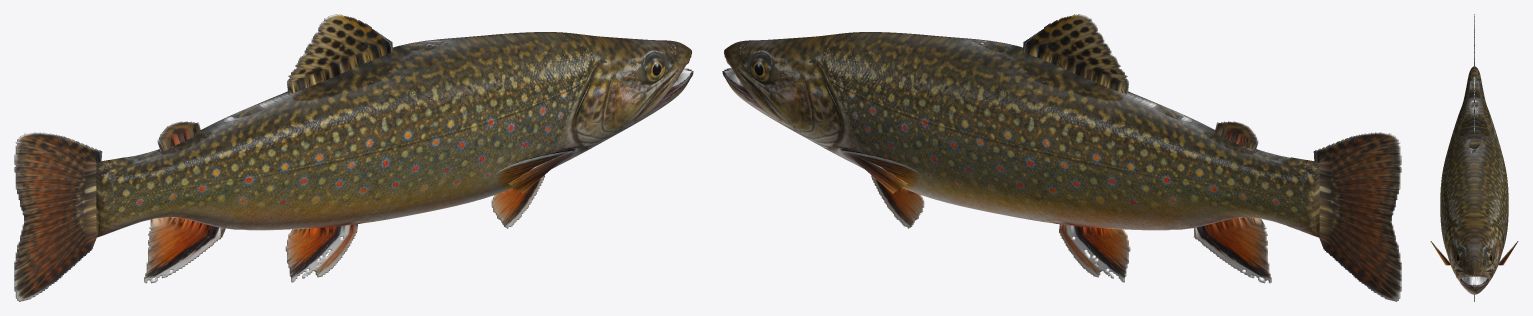
Rendered from brook_trout.glb.
The picture shows the model from 3 angles, left to right: view 1: azimuth 30°, elevation 25°; view 2: azimuth 150°, elevation 25°; view 3: azimuth 270°, elevation 25°; orthographic projection. The views are drawn at different scales.
Visible parts, largest first — view 1: brook_trout_realistic.003; view 2: brook_trout_realistic.003; view 3: brook_trout_realistic.003.
Part boxes in pixels (x1,y1,x2,y2): brook_trout_realistic.003: (14,14,693,301); brook_trout_realistic.003: (722,14,1401,301); brook_trout_realistic.003: (1430,14,1518,301).
Size of the model in its own units: 1 by 0.3639 by 0.1759.
Materials: 3 (3 with a texture image).
